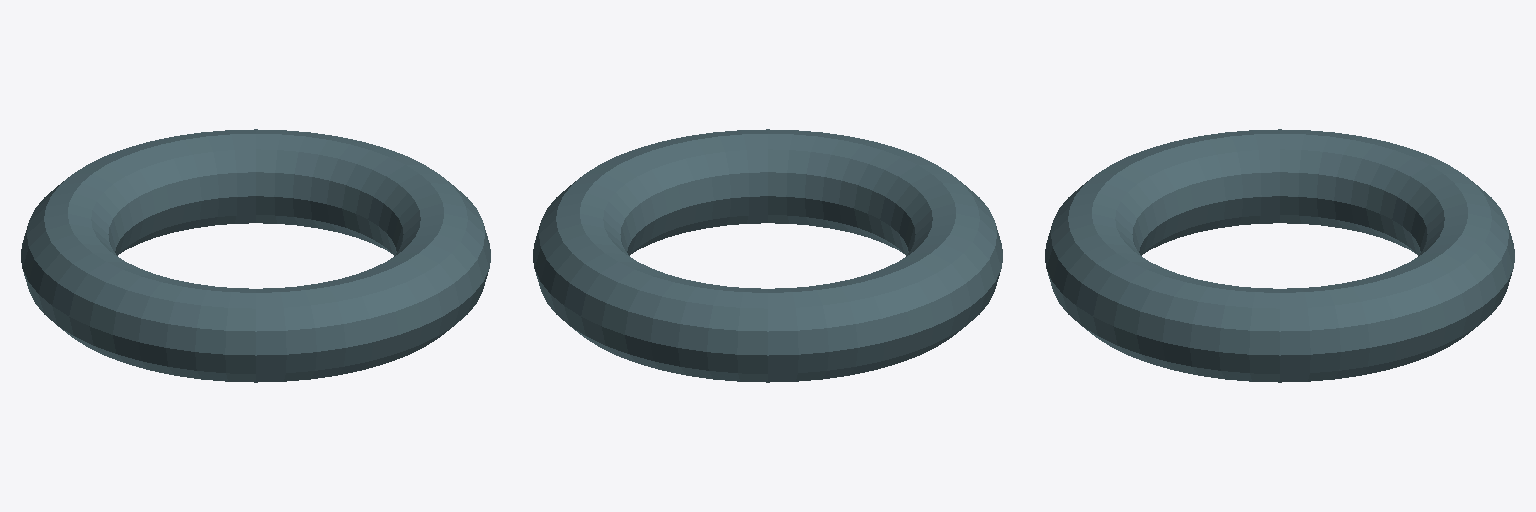
The picture shows the model from 3 angles: view 1: azimuth 30°, elevation 25°; view 2: azimuth 150°, elevation 25°; view 3: azimuth 270°, elevation 25°; orthographic projection.
Parts seen in each view (by area): view 1: Torus; view 2: Torus; view 3: Torus.
Boxes of the visible parts, x1=… form: Torus: x1=21, y1=129, x2=490, y2=382; Torus: x1=533, y1=129, x2=1002, y2=382; Torus: x1=1045, y1=129, x2=1514, y2=382.
Size of the model in its own units: 0.25 by 0.05 by 0.25.
1 materials, 1 textured.